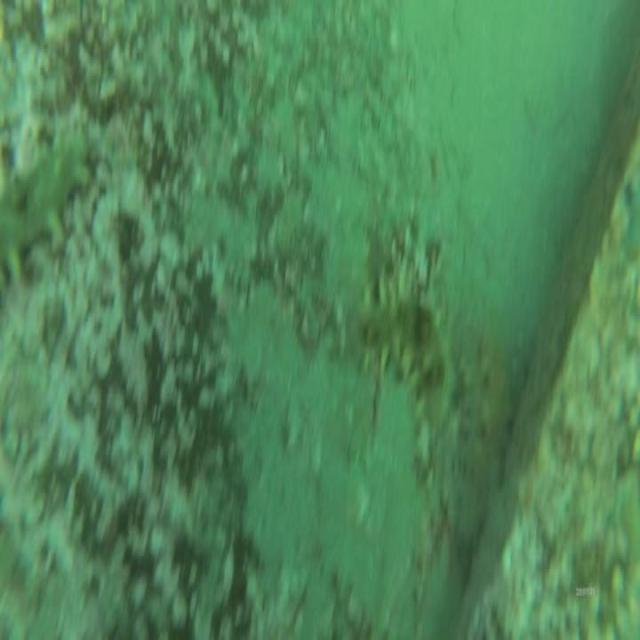holothurian: (439, 334, 512, 534), (6, 122, 92, 289), (361, 294, 455, 433)
